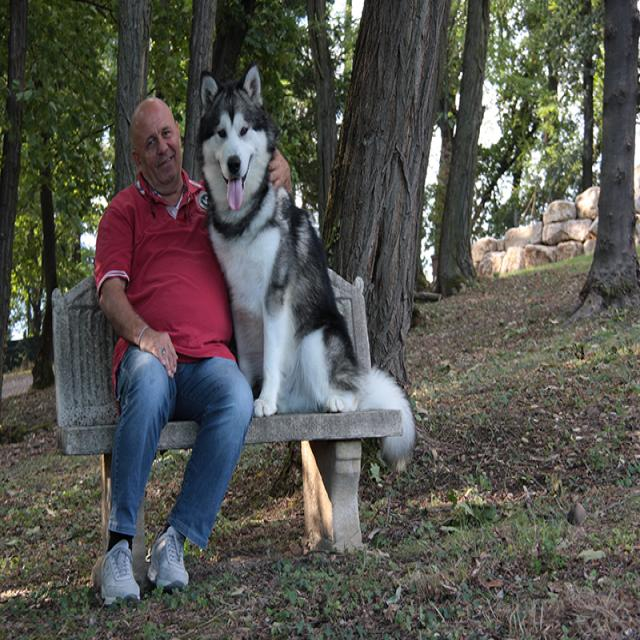ALASKAN_MALAMUTE: (182, 41, 423, 461)
